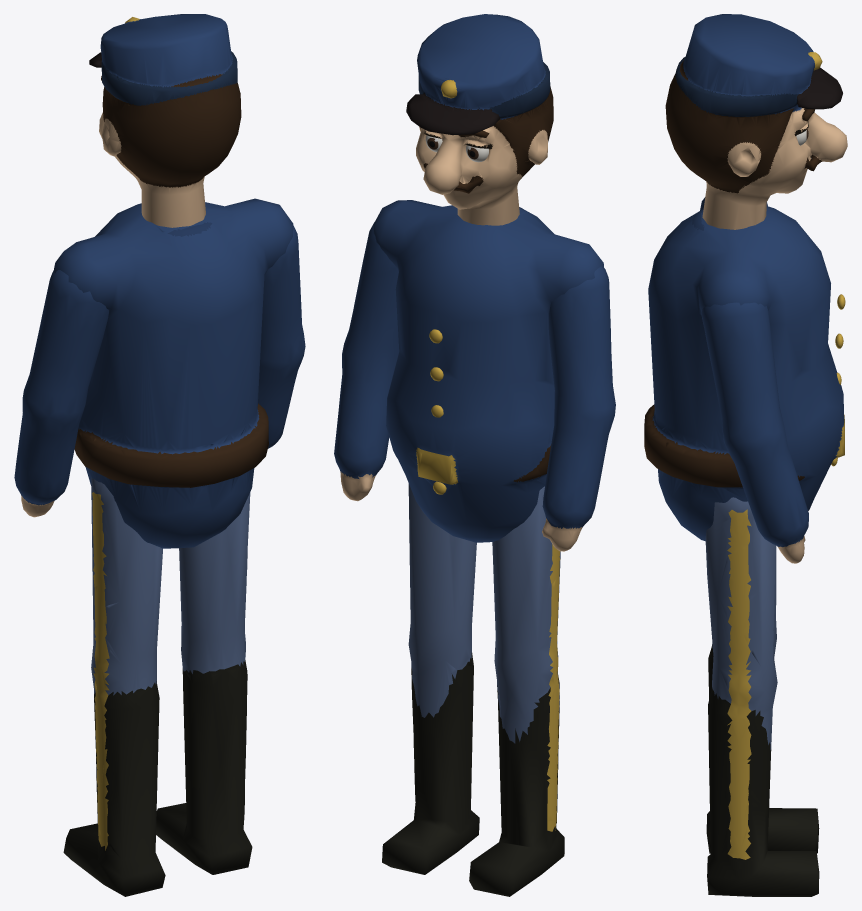
File: soldier-m.glb
The picture shows the model from 3 angles, left to right: view 1: azimuth 30°, elevation 25°; view 2: azimuth 150°, elevation 25°; view 3: azimuth 270°, elevation 25°; orthographic projection. The views are drawn at different scales.
Visible parts, largest first — view 1: body_lod0, leg_l_lod0, head_lod0, leg_r_lod0, arm_l_lod0, arm_r_lod0; view 2: body_lod0, head_lod0, leg_l_lod0, leg_r_lod0, arm_l_lod0, arm_r_lod0; view 3: body_lod0, head_lod0, leg_r_lod0, arm_r_lod0, leg_l_lod0.
Boxes of the visible parts, x1,y1,x2,y2 form: body_lod0: (54, 198, 293, 548); leg_l_lod0: (63, 477, 165, 896); head_lod0: (89, 14, 241, 227); leg_r_lod0: (156, 492, 252, 874); arm_l_lod0: (14, 270, 108, 517); arm_r_lod0: (258, 225, 305, 448); body_lod0: (373, 200, 604, 542); head_lod0: (406, 14, 553, 225); leg_l_lod0: (469, 486, 564, 896); leg_r_lod0: (382, 483, 479, 874); arm_l_lod0: (542, 266, 615, 551); arm_r_lod0: (334, 222, 399, 501); body_lod0: (644, 197, 845, 541); head_lod0: (665, 14, 847, 229); leg_r_lod0: (705, 497, 819, 896); arm_r_lod0: (701, 302, 808, 563); leg_l_lod0: (706, 545, 819, 853).
Size of what is drawn, in the model's own units: 0.649 by 1.94 by 0.4242.
